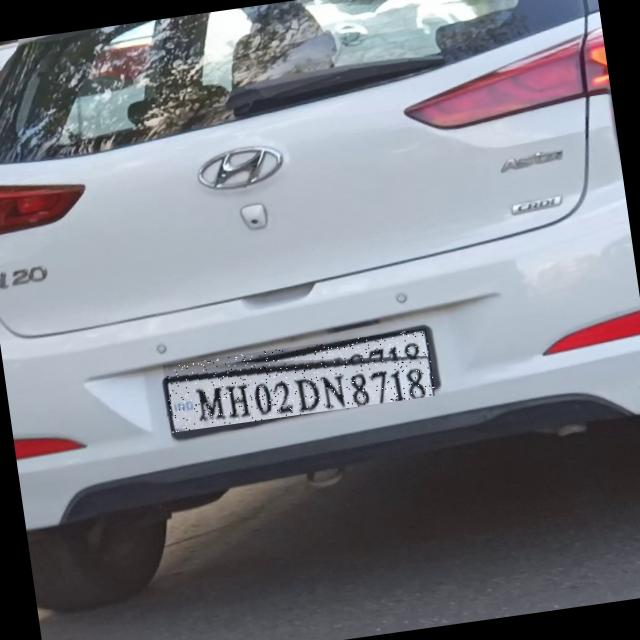Plate: (164, 330, 437, 434)
